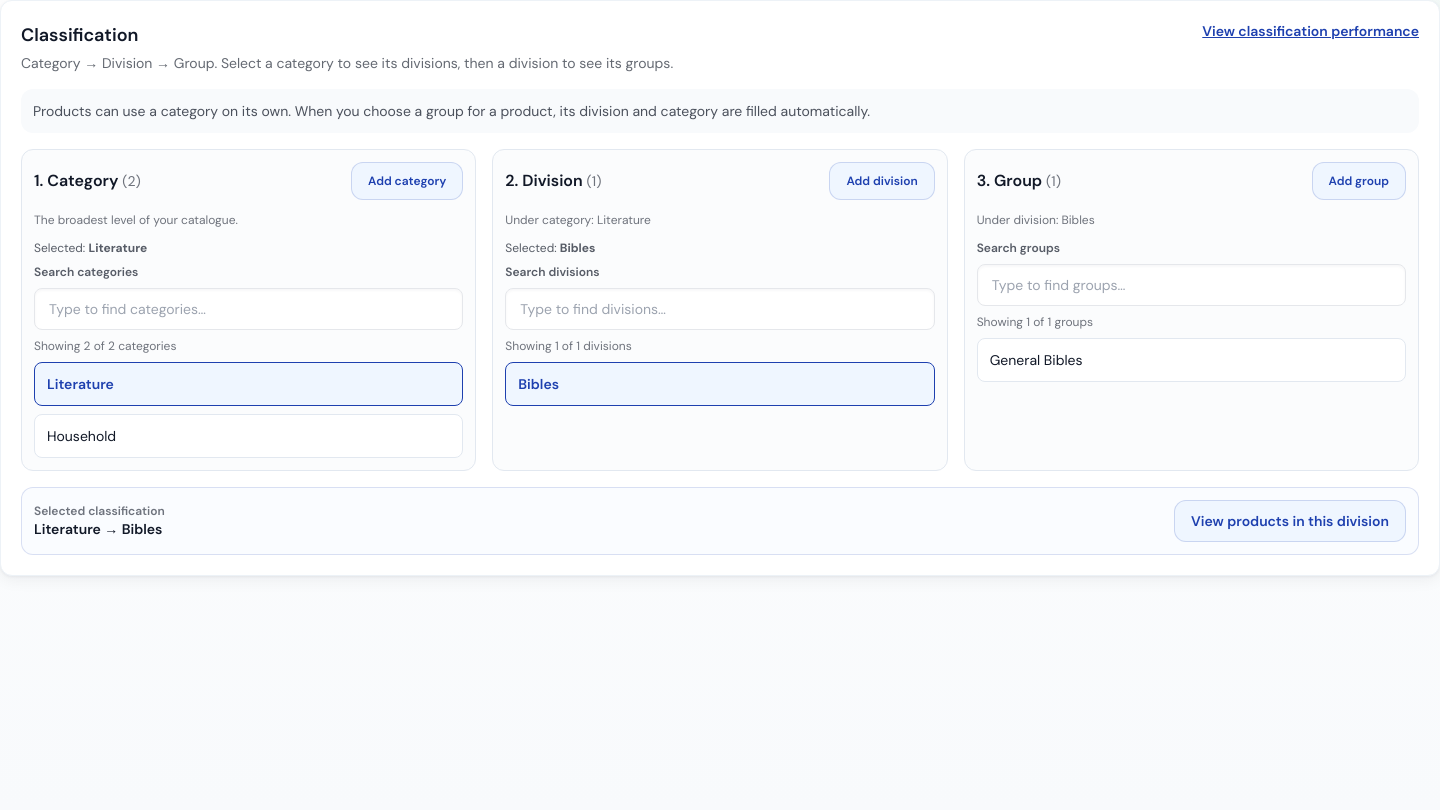
Test: clears child searches when switching parent while retaining the category search
The width and height of the screenshot is (1440, 810).
Step 1. Type "not here" into the search field labelled "Search divisions" → (720, 309), box [505,288,935,330]
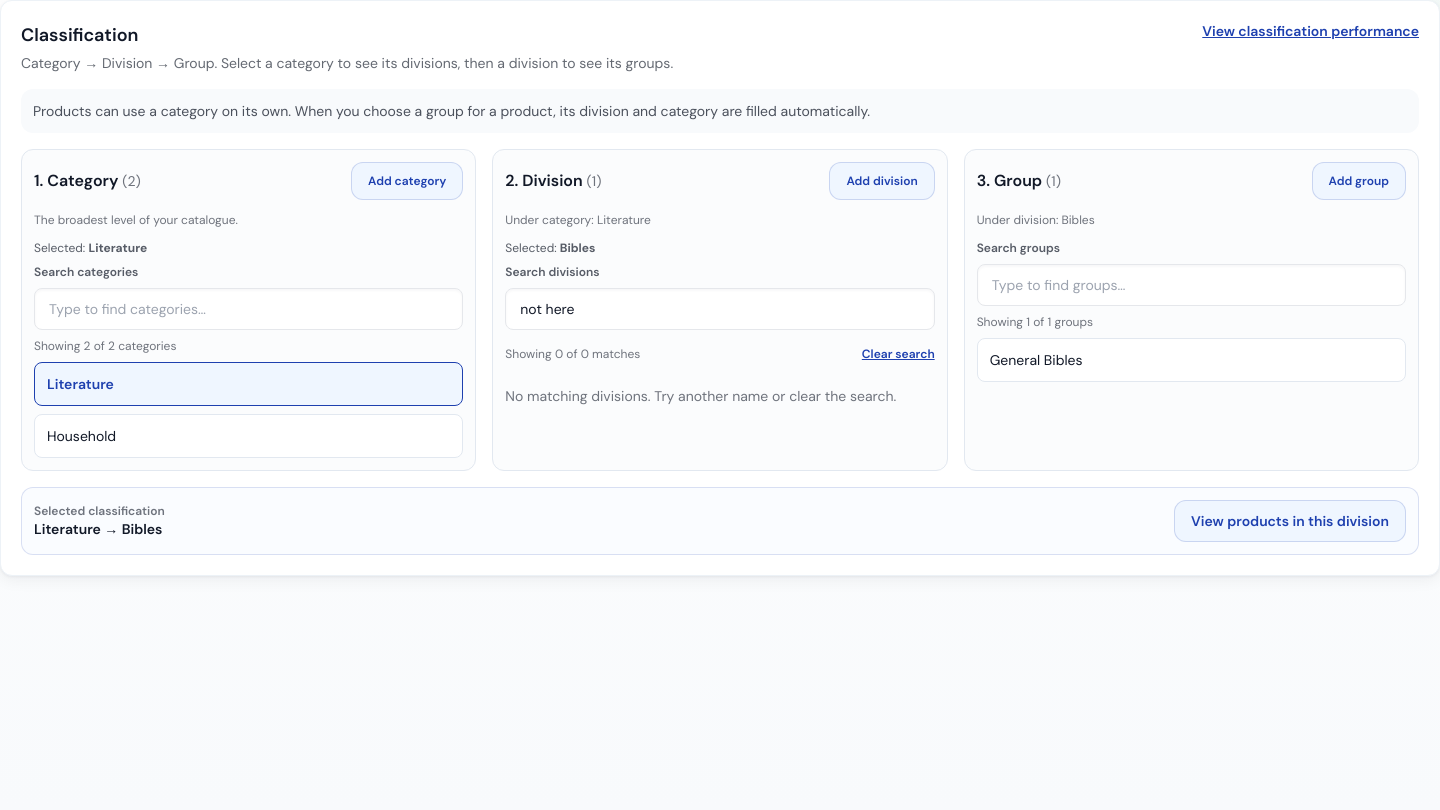
Step 2. Type "not here" into the search field labelled "Search groups" → (1191, 285), box [977,264,1406,306]
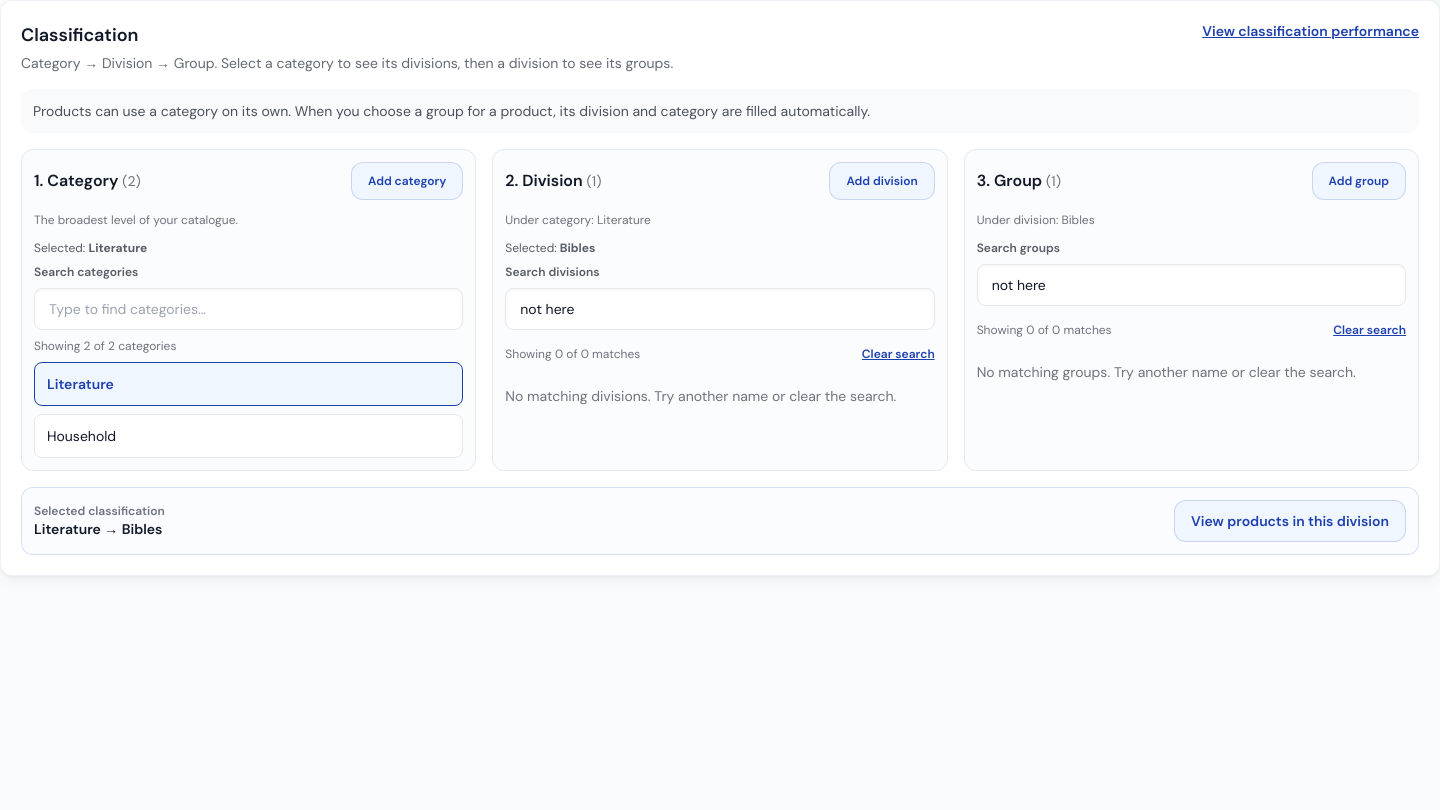
Step 3. Type "Household" into the search field labelled "Search categories" → (249, 309), box [34,288,463,330]
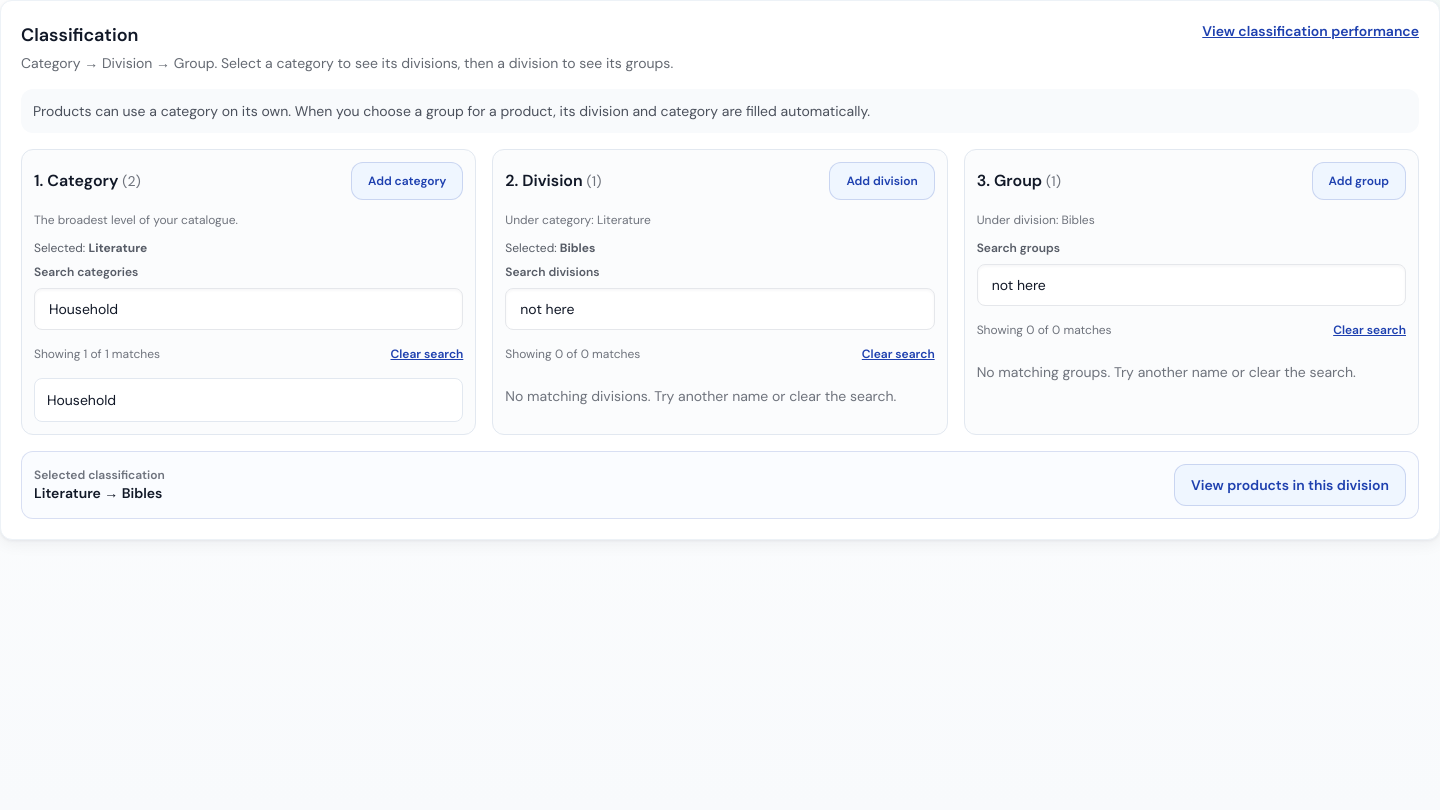
Step 4. Click the button "Household" → (82, 400), box [34,378,463,422]
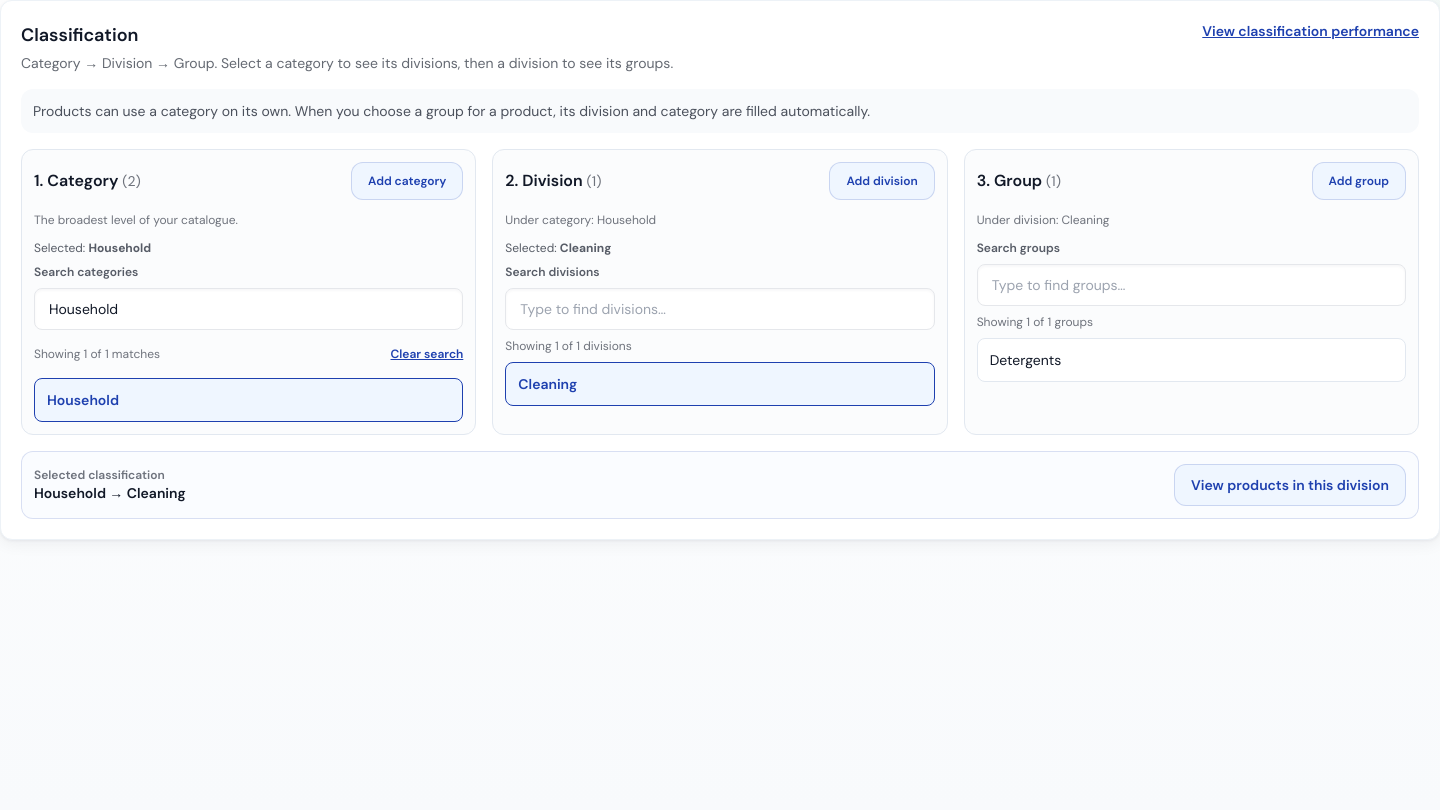
Check: the search field labelled "Search divisions" is empty, box [505,288,935,330]
Check: the search field labelled "Search groups" is empty, box [977,264,1406,306]
Check: the button "Cleaning" is shown, box [505,362,935,406]
